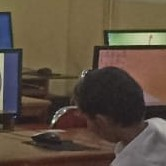monitor: (92, 45, 166, 113), (0, 48, 23, 118), (0, 11, 14, 49)
